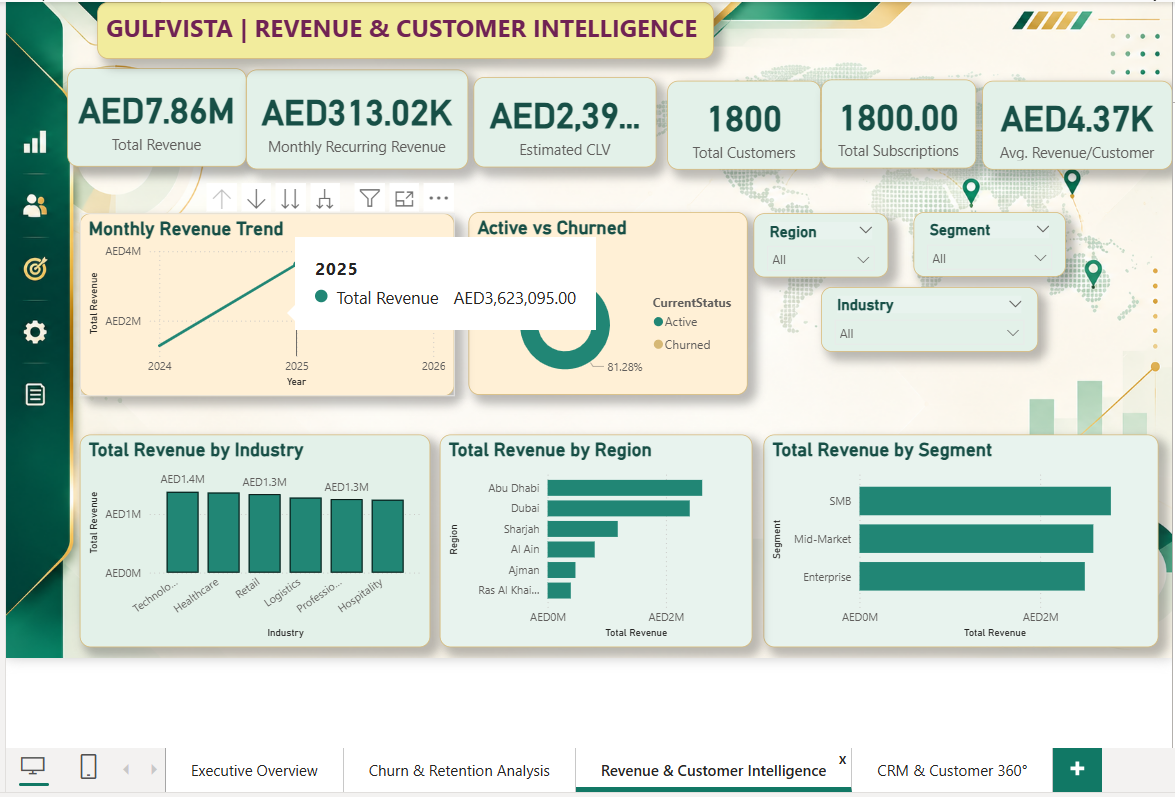

Layout of this report page (visuals, bound fields, positions):
{"tool":"powerbi","page":{"name":"Revenue & Customer Intelligence","canvas":[1280,720],"ordinal":2},"visuals":[{"type":"card","fields":{"Values":["DimCustomer.Total Revenue"]},"box":[67.1,73.2,196.6,108.2],"z":0},{"type":"card","fields":{"Values":["DimCustomer.Monthly Recurring Revenue"]},"box":[263.7,74.7,243.9,109.7],"z":1000},{"type":"card","fields":{"Values":["DimCustomer.Estimated Customer Lifetime Value"]},"box":[513.6,82.3,201.2,99.1],"z":2000},{"type":"card","fields":{"Values":["_Measures.Total Customers"]},"box":[725.5,86.9,169.2,97.5],"z":3000},{"type":"card","fields":{"Values":["DimCustomer.Total Subscriptions"]},"box":[894.7,85.4,170.7,97.5],"z":4000},{"type":"card","fields":{"Values":["DimCustomer.Average Revenue Per Customer"]},"box":[1071.5,86.9,208.8,97.5],"z":5000},{"type":"donutChart","title":"Active vs Churned Subscriptions","fields":{"Category":["FactSubscription.CurrentStatus"],"Y":["DimCustomer.Total Subscriptions"]},"box":[507.6,231,306.5,201],"z":6000},{"type":"lineChart","title":"Monthly Revenue Trend","fields":{"Category":["FactMonthlyRevenue.RevenueMonth.Variation.Date Hierarchy.Year","FactMonthlyRevenue.RevenueMonth.Variation.Date Hierarchy.Month"],"Y":["DimCustomer.Total Revenue"]},"box":[80.8,231.7,411.5,201.2],"z":7000},{"type":"clusteredBarChart","fields":{"Category":["DimCustomer.Segment"],"Y":["DimCustomer.Total Revenue"]},"box":[831.2,474.8,433.4,233.8],"z":8000},{"type":"clusteredColumnChart","fields":{"Category":["DimCustomer.Industry"],"Y":["DimCustomer.Total Revenue"]},"box":[81.3,474.8,384.9,233.8],"z":9000},{"type":"clusteredBarChart","fields":{"Category":["DimCustomer.Region"],"Y":["DimCustomer.Total Revenue"]},"box":[476.2,474.8,343.6,233.8],"z":10000},{"type":"slicer","fields":{"Values":["DimCustomer.Region"]},"box":[820,231.7,147.8,70.1],"z":11000},{"type":"slicer","fields":{"Values":["DimCustomer.Segment"]},"box":[996.6,231,166.8,71.3],"z":12000},{"type":"slicer","fields":{"Values":["DimCustomer.Industry"]},"box":[895.3,312.2,238.1,71.3],"z":13000},{"type":"textbox","box":[100.6,0,676.7,62.5],"z":14000}]}

Visuals, with their boxes on the page's 1280x720 design canvas (x1, y1, x2, y2). These are canvas units, not pixel positions in the 1175x797 screenshot, which may show the page scaled, cropped or inside an application window:
card - DimCustomer.Total Revenue: (x1=67, y1=73, x2=264, y2=181)
card - DimCustomer.Monthly Recurring Revenue: (x1=264, y1=75, x2=508, y2=184)
card - DimCustomer.Estimated Customer Lifetime Value: (x1=514, y1=82, x2=715, y2=181)
card - _Measures.Total Customers: (x1=726, y1=87, x2=895, y2=184)
card - DimCustomer.Total Subscriptions: (x1=895, y1=85, x2=1065, y2=183)
card - DimCustomer.Average Revenue Per Customer: (x1=1072, y1=87, x2=1280, y2=184)
"Active vs Churned Subscriptions" donutChart: (x1=508, y1=231, x2=814, y2=432)
"Monthly Revenue Trend" lineChart: (x1=81, y1=232, x2=492, y2=433)
clusteredBarChart - DimCustomer.Segment x DimCustomer.Total Revenue: (x1=831, y1=475, x2=1265, y2=709)
clusteredColumnChart - DimCustomer.Industry x DimCustomer.Total Revenue: (x1=81, y1=475, x2=466, y2=709)
clusteredBarChart - DimCustomer.Region x DimCustomer.Total Revenue: (x1=476, y1=475, x2=820, y2=709)
slicer - DimCustomer.Region: (x1=820, y1=232, x2=968, y2=302)
slicer - DimCustomer.Segment: (x1=997, y1=231, x2=1163, y2=302)
slicer - DimCustomer.Industry: (x1=895, y1=312, x2=1133, y2=384)
textbox: (x1=101, y1=0, x2=777, y2=62)
